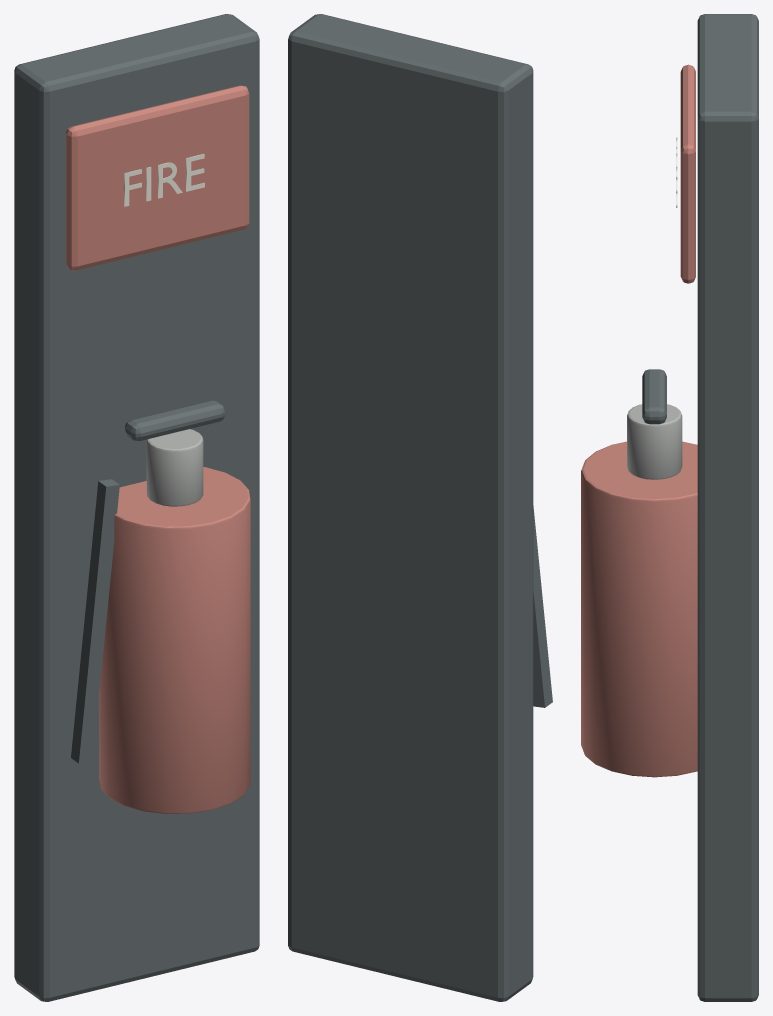
File: F1_SafetyStation.fbx
3 views of the same model, side by side, from view 1: azimuth 30°, elevation 25°; view 2: azimuth 150°, elevation 25°; view 3: azimuth 270°, elevation 25° (orthographic). The views are drawn at different scales.
Visible parts, largest first — view 1: F1_SafetyStation_LOD0; view 2: F1_SafetyStation_LOD0; view 3: F1_SafetyStation_LOD0.
Part boxes in pixels (x1,y1,x2,y2): F1_SafetyStation_LOD0: [14, 14, 259, 1001]; F1_SafetyStation_LOD0: [288, 14, 552, 1001]; F1_SafetyStation_LOD0: [581, 14, 758, 1001].
Size of what is drawn, in the model's own units: 40 by 160 by 29.
